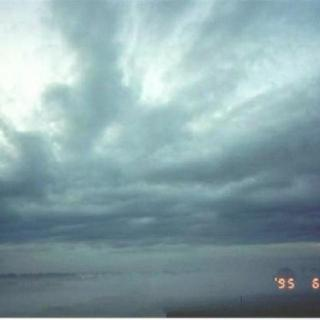Stratocumulus: (0, 1, 320, 314)
